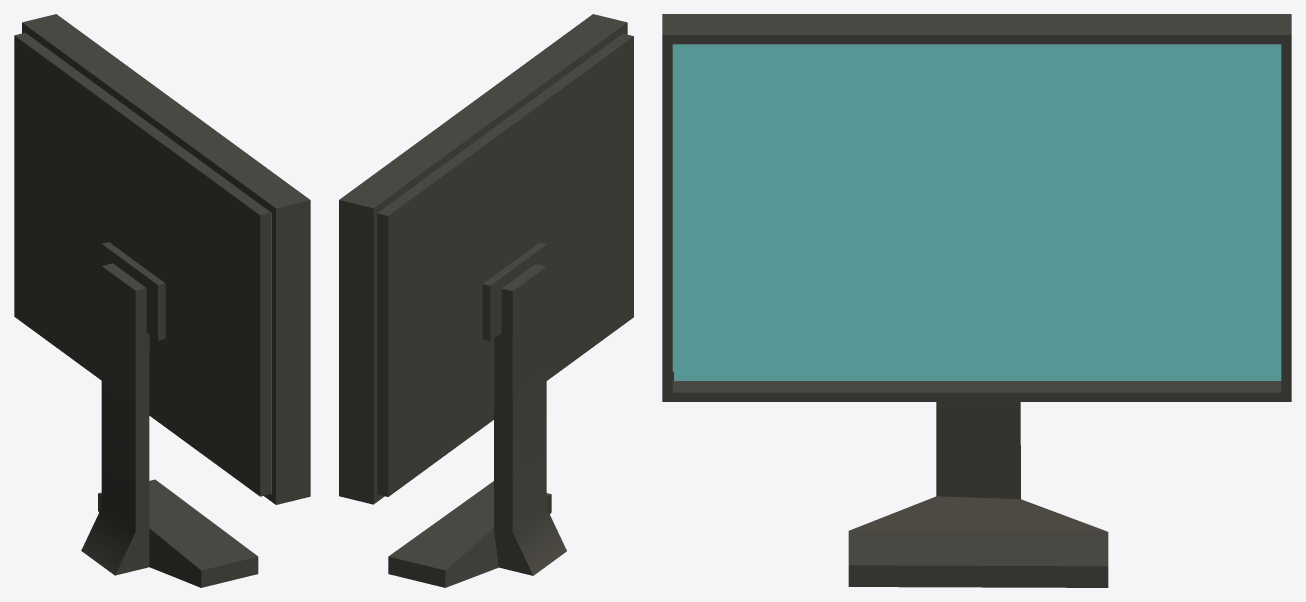
File: pasokon_moniter_mimura.fbx
3 views of the same model, side by side, from view 1: azimuth 30°, elevation 25°; view 2: azimuth 150°, elevation 25°; view 3: azimuth 270°, elevation 25° (orthographic). The views are drawn at different scales.
Visible parts, largest first — view 1: pCube7; view 2: pCube7; view 3: pCube7.
Boxes of the visible parts, x1,y1,x2,y2 form: pCube7: (14, 14, 310, 587); pCube7: (339, 14, 633, 587); pCube7: (662, 14, 1291, 587).
Size of the model in its own units: 0.5047 by 1.92 by 2.03.
